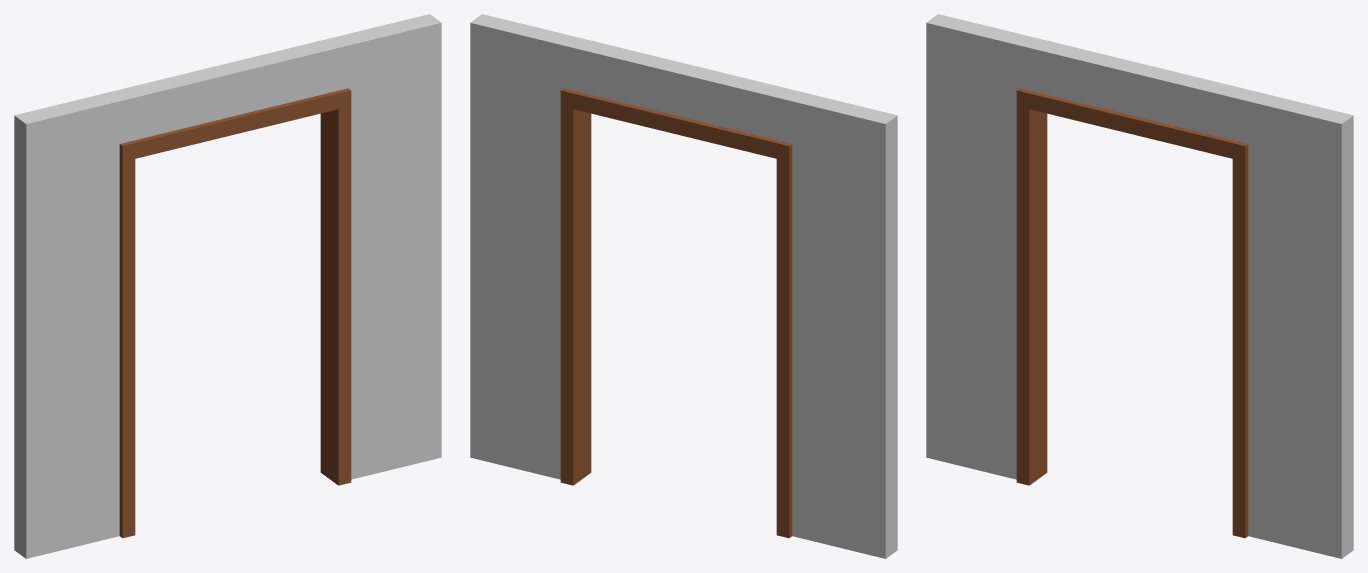
Rendered from Parede_Porta.fbx.
3 views of the same model, side by side, from view 1: azimuth 30°, elevation 25°; view 2: azimuth 150°, elevation 25°; view 3: azimuth 330°, elevation 25° (orthographic).
Parts seen in each view (by area): view 1: 4x4_Wall.001; view 2: 4x4_Wall.001; view 3: 4x4_Wall.001.
Part boxes in pixels (x1=…): 4x4_Wall.001: x1=14, y1=14, x2=441, y2=558; 4x4_Wall.001: x1=470, y1=14, x2=897, y2=558; 4x4_Wall.001: x1=926, y1=14, x2=1353, y2=558.
Size of the model in its own units: 400 by 400 by 30.
